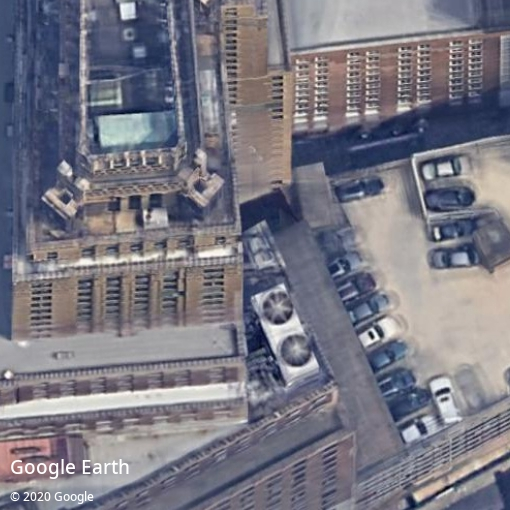Vent: (280, 334, 313, 367), (262, 291, 294, 324)
